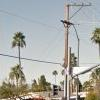Tree: (7, 25, 33, 69)
